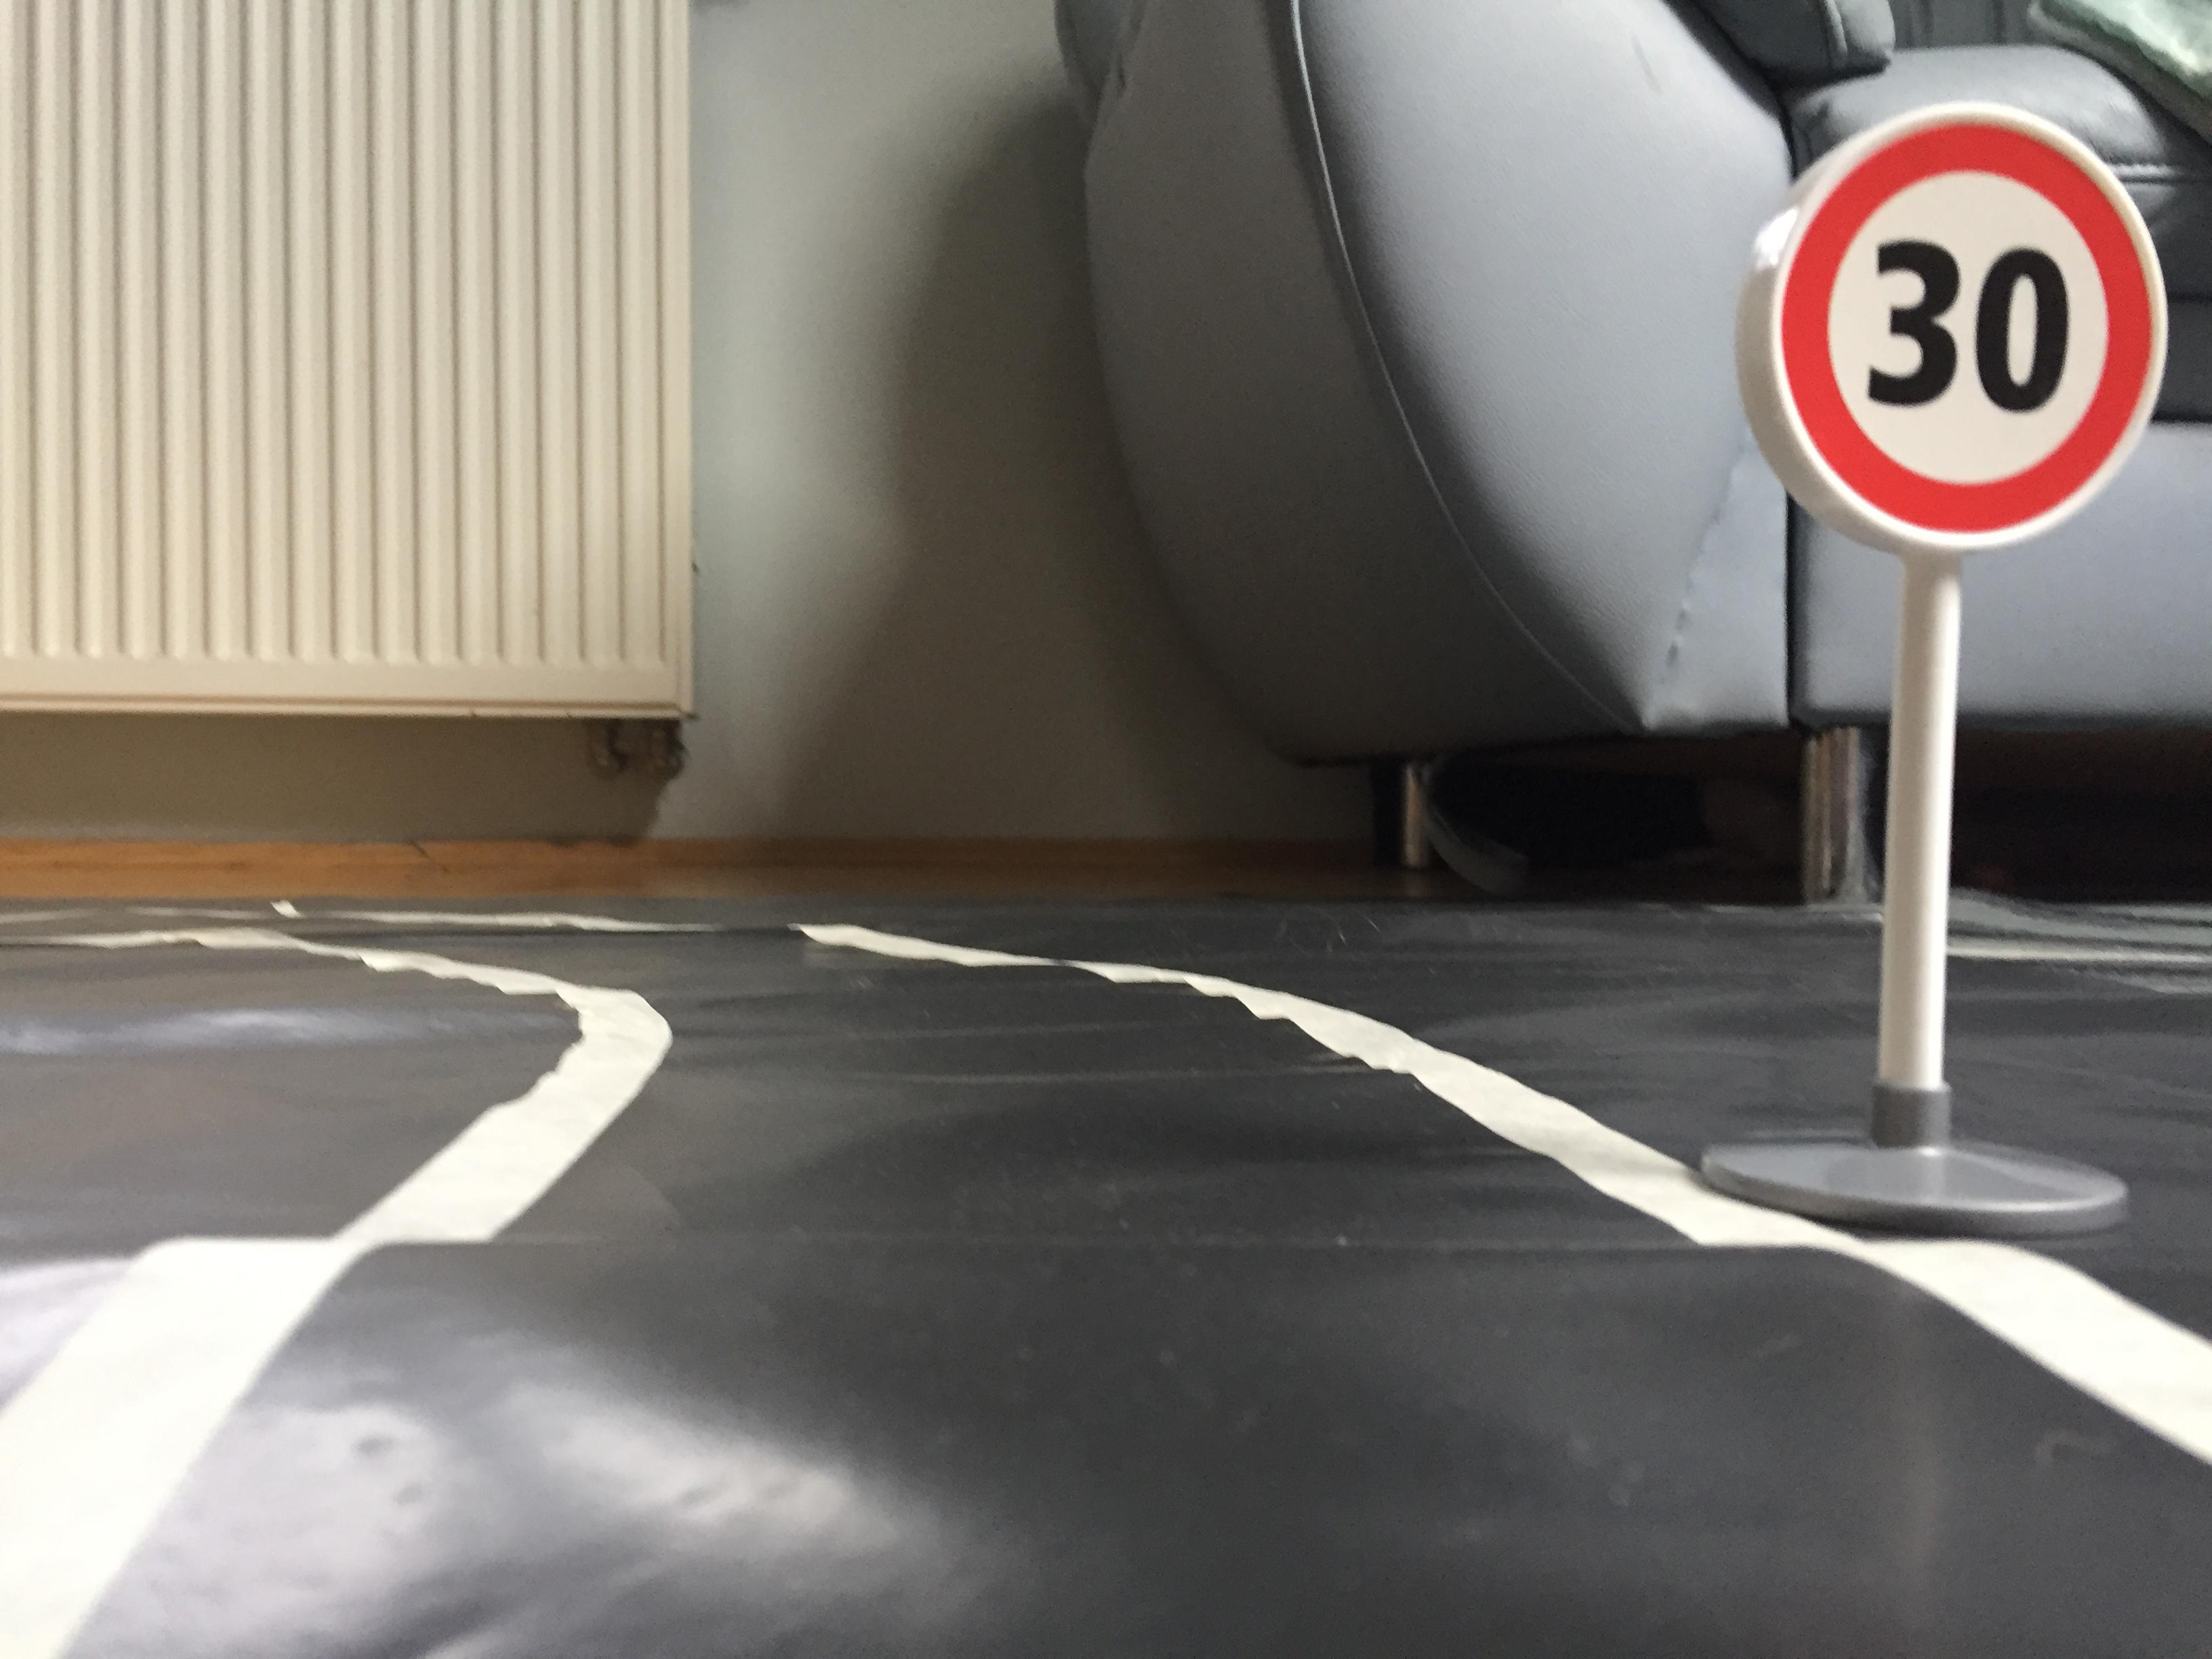speed: (1717, 98, 2184, 559)
